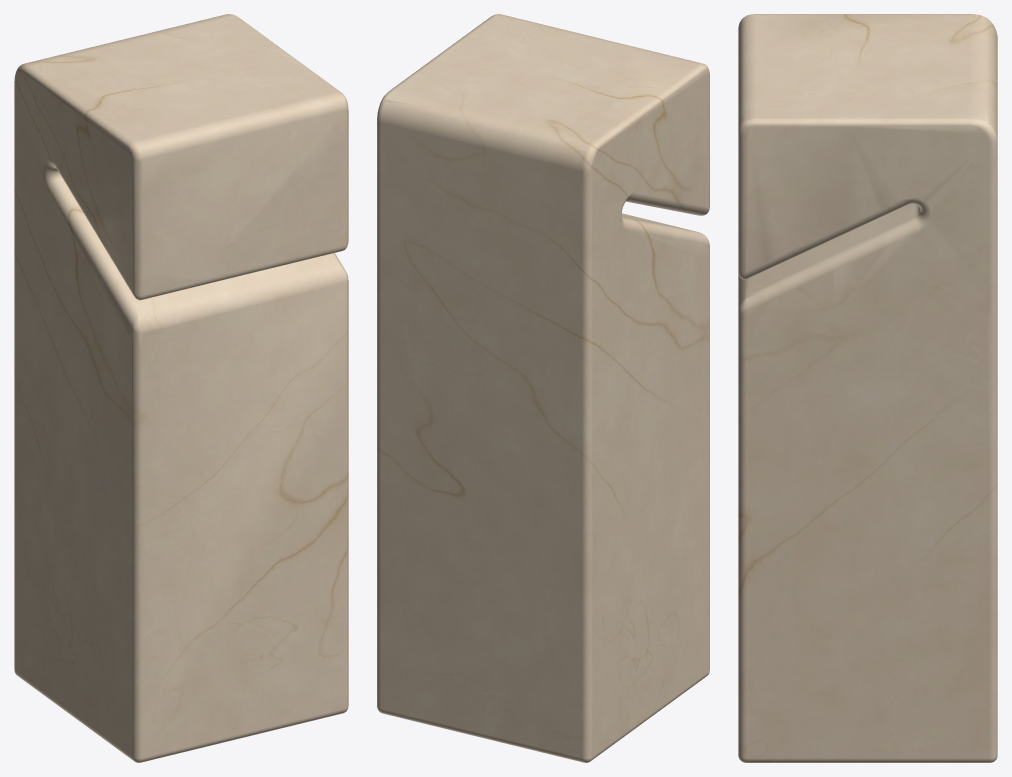
The model's file is knight-white.glb.
The picture shows the model from 3 angles, left to right: view 1: azimuth 30°, elevation 25°; view 2: azimuth 150°, elevation 25°; view 3: azimuth 270°, elevation 25°; orthographic projection. The views are drawn at different scales.
Parts seen in each view (by area): view 1: jezdec_bily; view 2: jezdec_bily; view 3: jezdec_bily.
Part boxes in pixels (box(x1,y1,x2,y2)): jezdec_bily: box(14, 14, 348, 762); jezdec_bily: box(377, 14, 709, 762); jezdec_bily: box(738, 14, 997, 762).
Size of the model in its own units: 0.4304 by 1.18 by 0.4304.
Materials: 1 (1 with a texture image).
